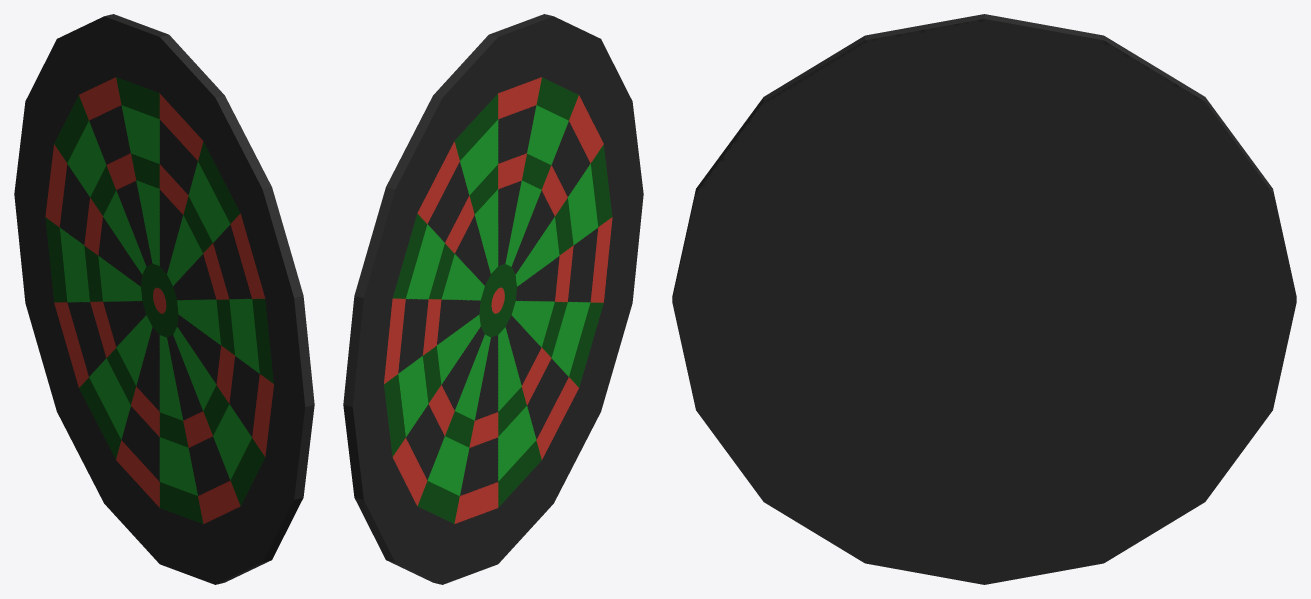
The model's file is Dardos.fbx.
3 views of the same model, side by side, from view 1: azimuth 30°, elevation 25°; view 2: azimuth 150°, elevation 25°; view 3: azimuth 270°, elevation 25° (orthographic). The views are drawn at different scales.
Parts seen in each view (by area): view 1: Dardos; view 2: Dardos; view 3: Dardos.
Part boxes in pixels (<box>): Dardos: <box>14,14,314,584</box>; Dardos: <box>343,14,643,584</box>; Dardos: <box>672,14,1296,584</box>.
Size of the model in its own units: 1.74 by 92.68 by 92.68.
